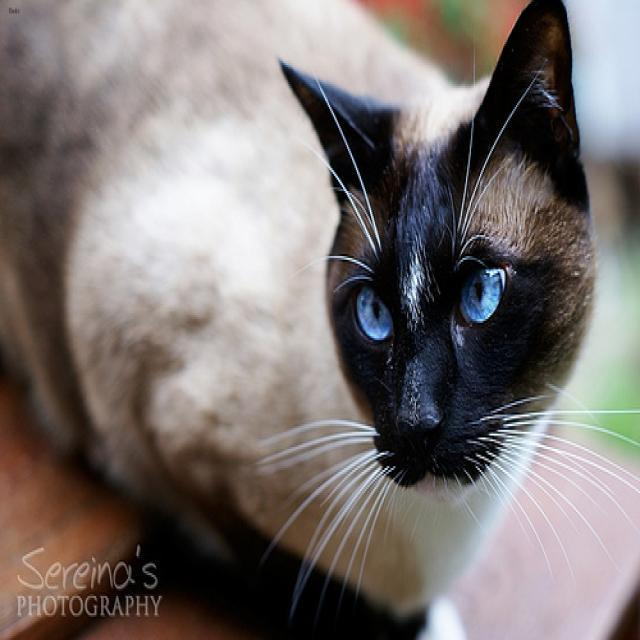Siamese: (278, 0, 598, 505)
